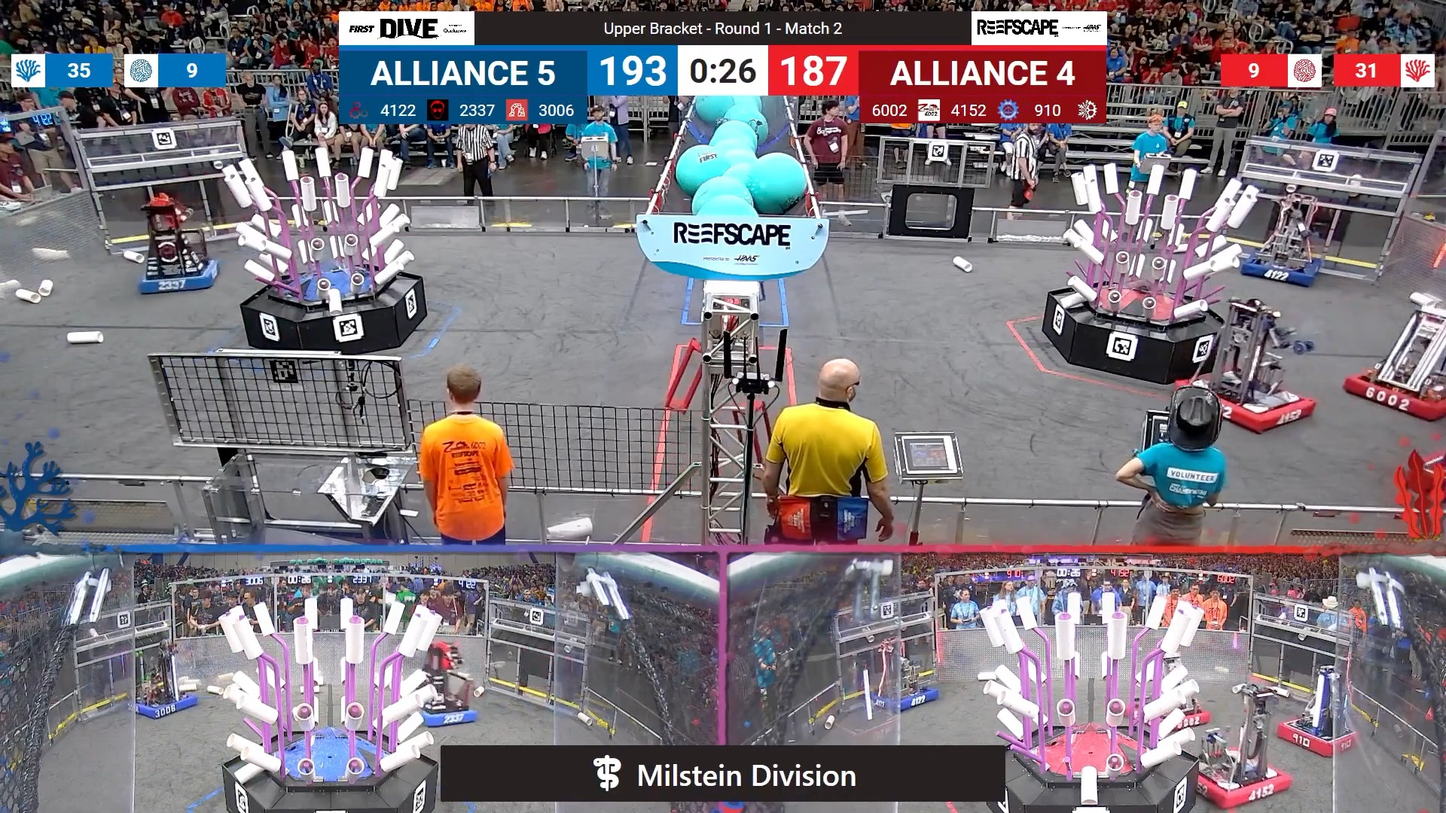bumpers: (1183, 375, 1324, 437), (1182, 756, 1298, 811), (1338, 364, 1445, 423), (1268, 714, 1363, 761), (127, 255, 229, 298), (1231, 248, 1332, 289), (124, 690, 207, 725), (407, 695, 483, 730), (864, 684, 944, 715)
